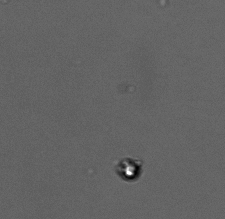Living Cell: (120, 160, 140, 181)
